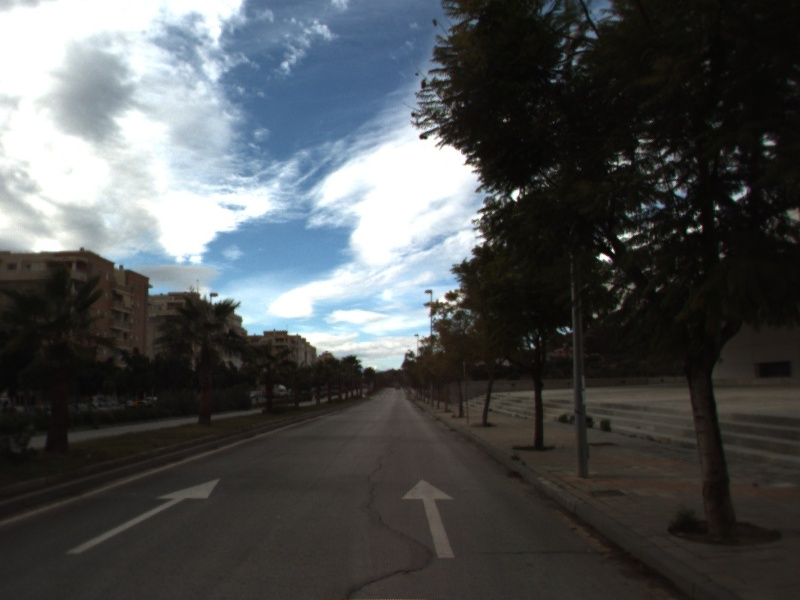STRAIGHT: (63, 476, 223, 556), (399, 477, 457, 560)
